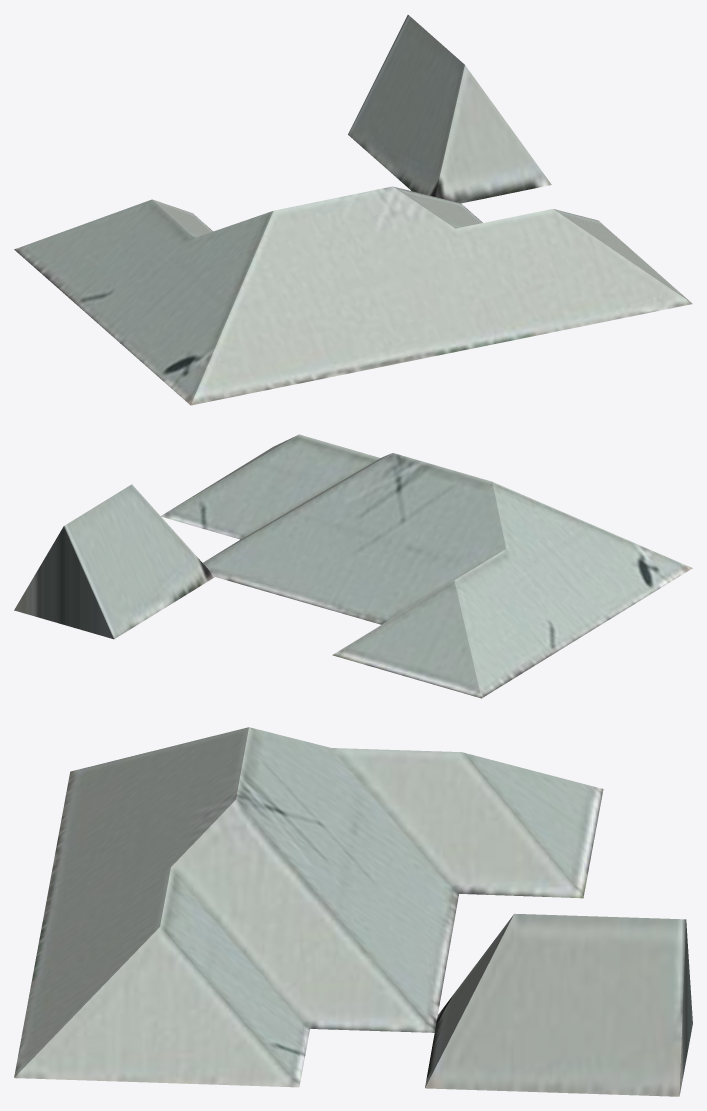
Rendered from CG10_500_042069_0013_roof.obj.
3 views of the same model, one above another, from view 1: azimuth 30°, elevation 25°; view 2: azimuth 150°, elevation 25°; view 3: azimuth 270°, elevation 25° (orthographic). The views are drawn at different scales.
Parts seen in each view (by area): view 1: CG10_500_042069_0013_roof; view 2: CG10_500_042069_0013_roof; view 3: CG10_500_042069_0013_roof.
Part boxes in pixels (x1,y1,x2,y2): CG10_500_042069_0013_roof: (14, 15, 692, 405); CG10_500_042069_0013_roof: (14, 434, 692, 698); CG10_500_042069_0013_roof: (14, 727, 692, 1096).
Bounding box in the file's own units: 346 × 70.02 × 305.
1 material, 1 textured.
